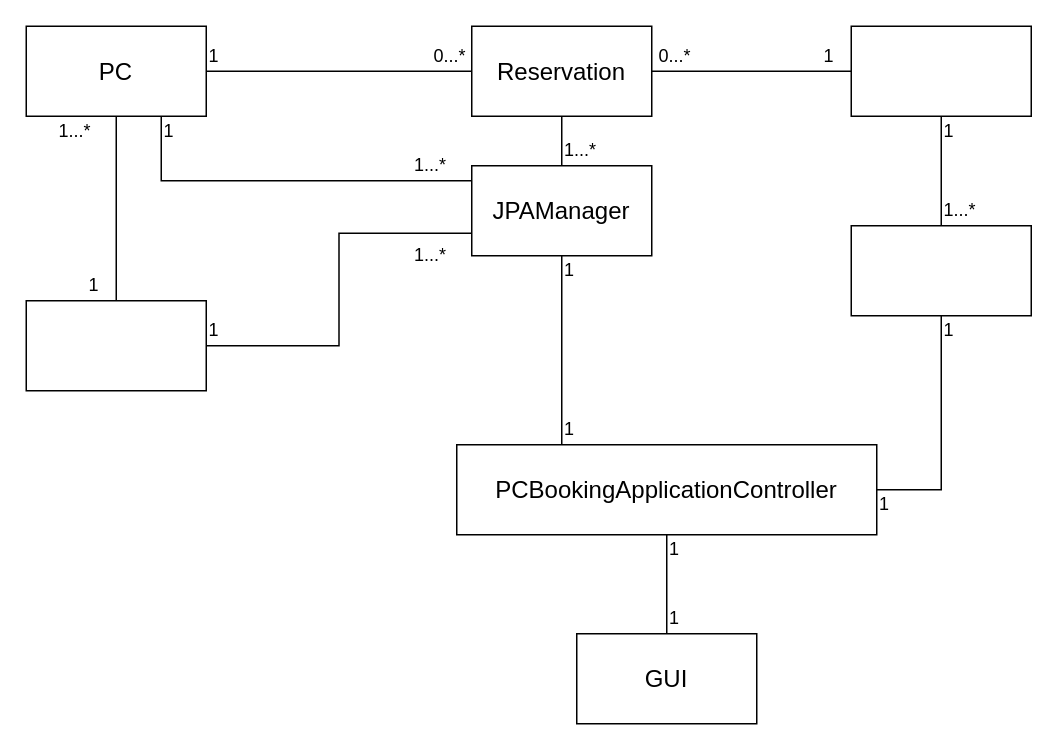
The diagram is 1058 pixels wide and 750 high, and some of its shapes have lost their labels. Each missing label, with the centre of its shape:
LDBManager: point (940, 270)
Room: point (115, 345)
User: point (940, 70)
